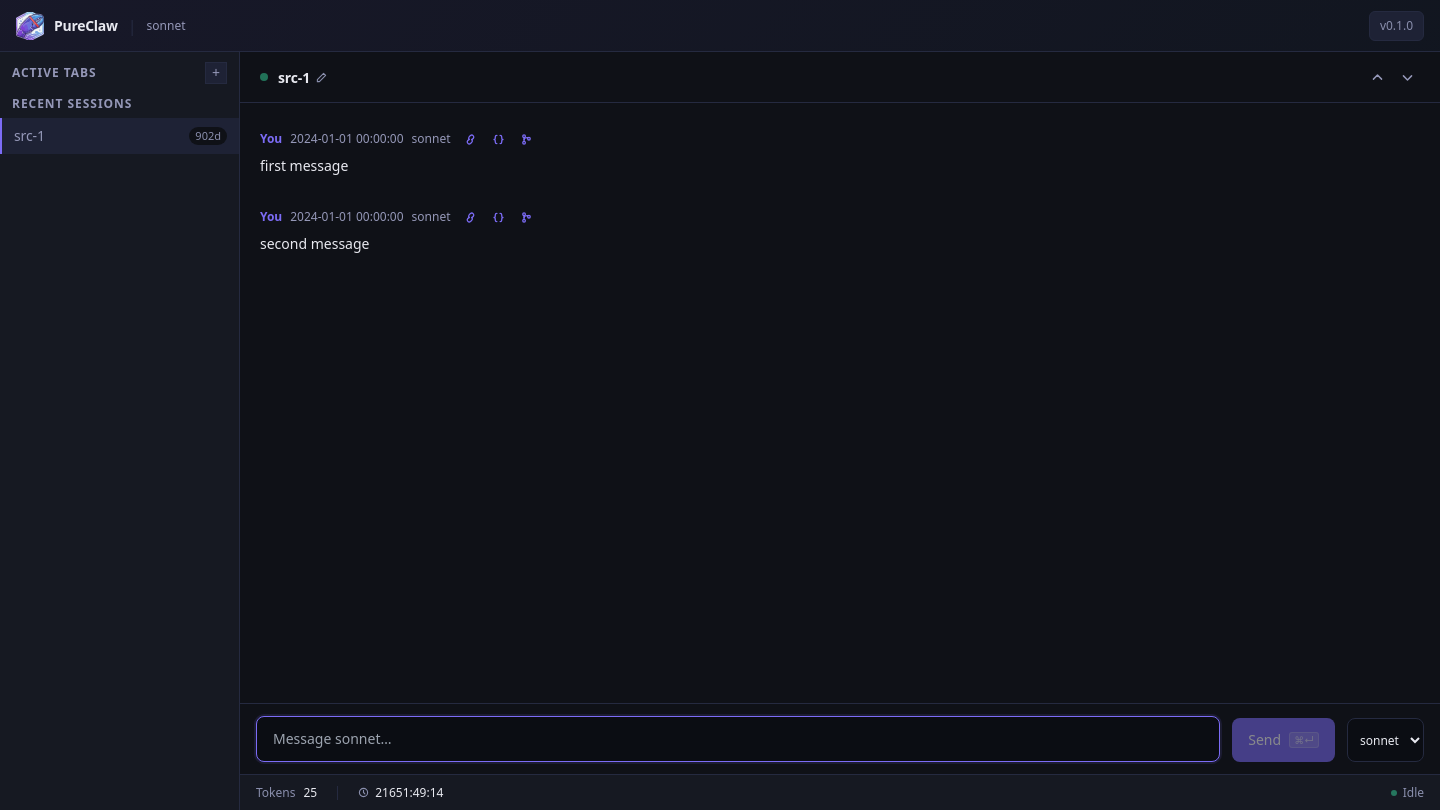
it: App branch draft flow › D13: first send POSTs /api/tabs/new with branch_from, then POSTs /send, then switches to the new session
Click the 2nd button named "branch session from here". click: x=526, y=217
box: [514,205,538,229]
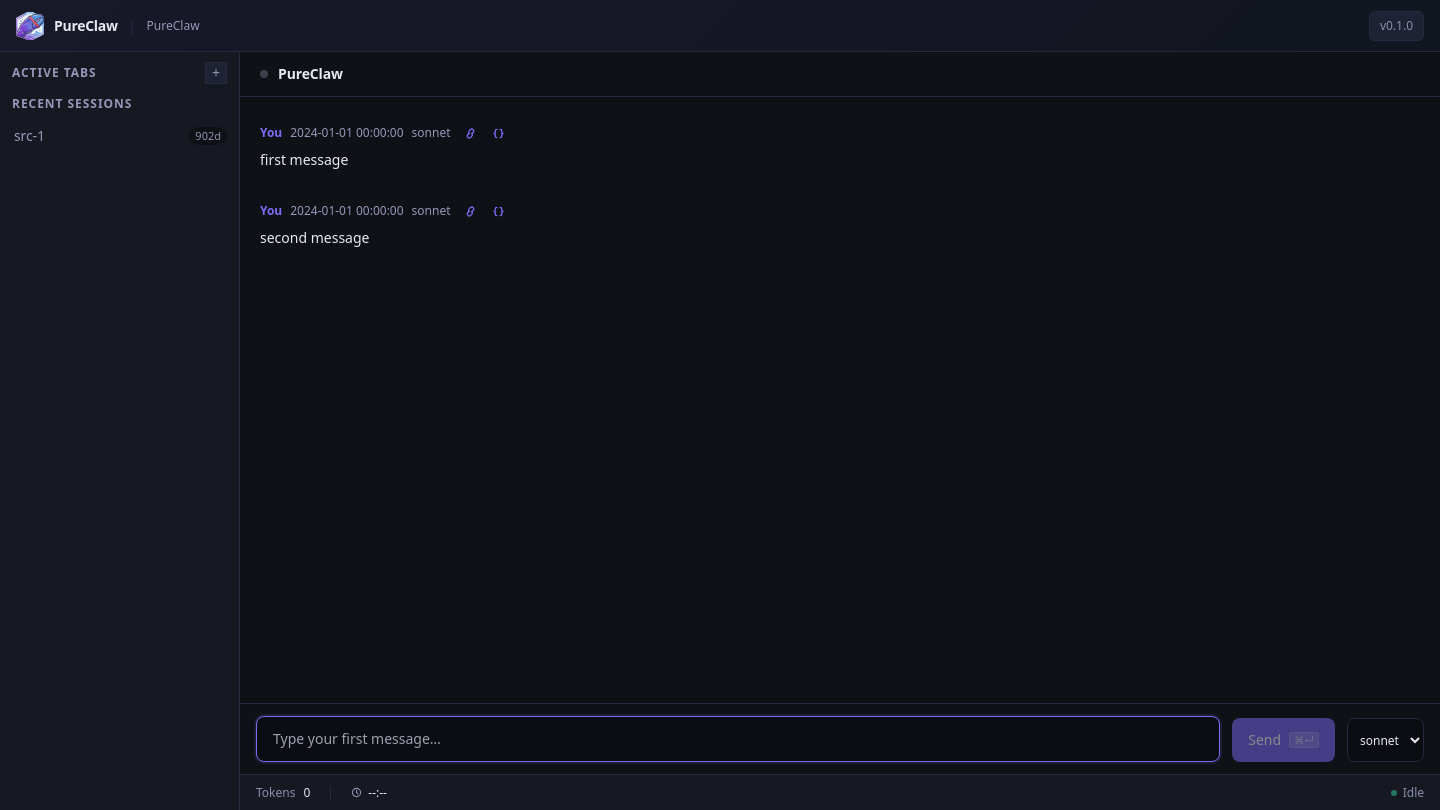
expect the text box with placeholder "Type your first message…" is shown: met
Type "continue here" into the text box with placeholder "Type your first message…". click: x=738, y=739
box: [256,716,1220,762]
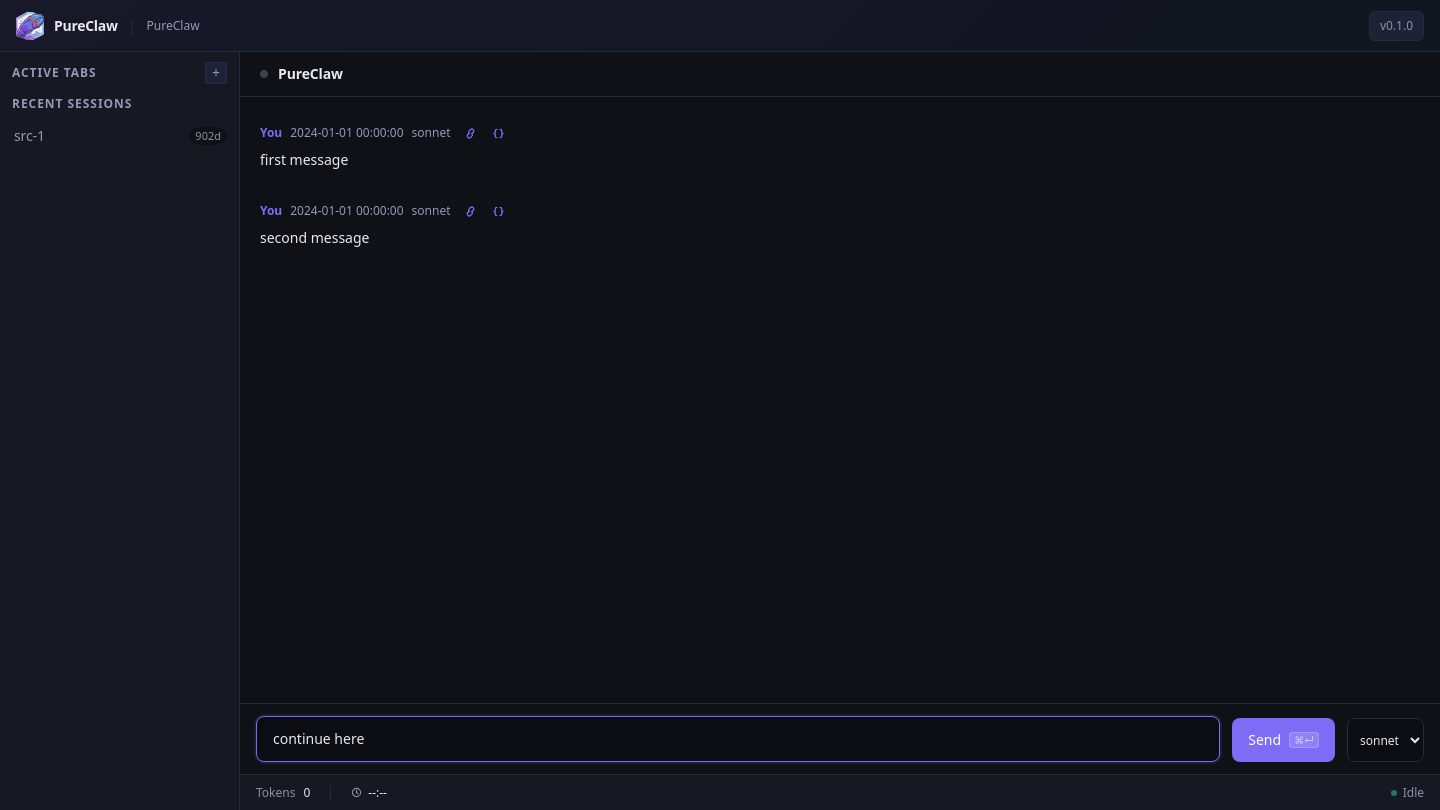
Press Enter in the text box with placeholder "Type your first message…", box [256,716,1220,762]
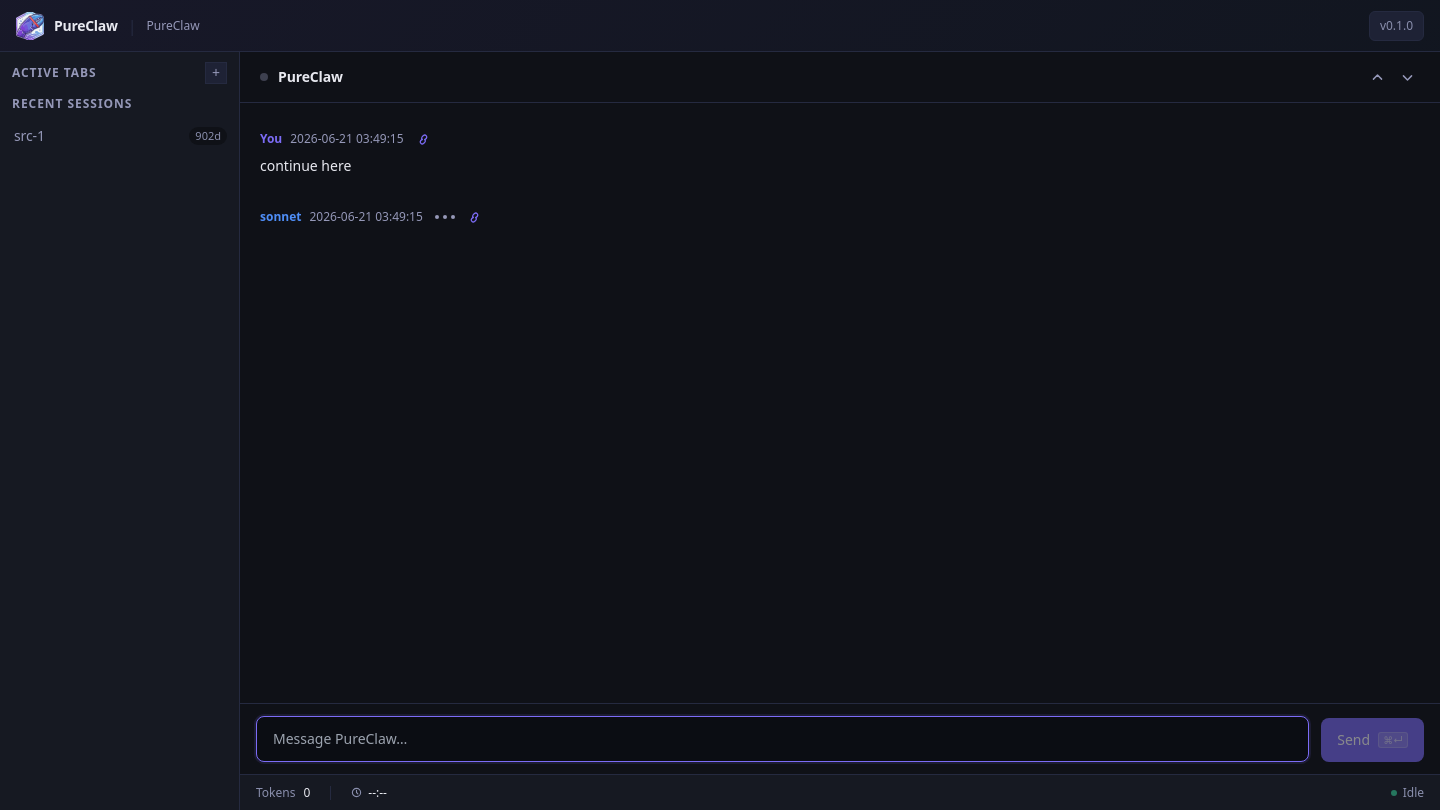
expect the text "continue here" is shown: met, box [260,156,351,175]
